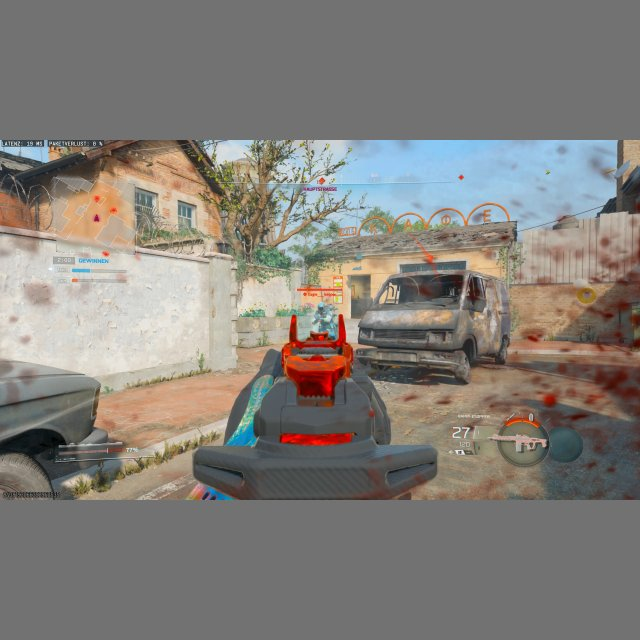head: (317, 301, 325, 312)
player: (311, 301, 334, 334)
